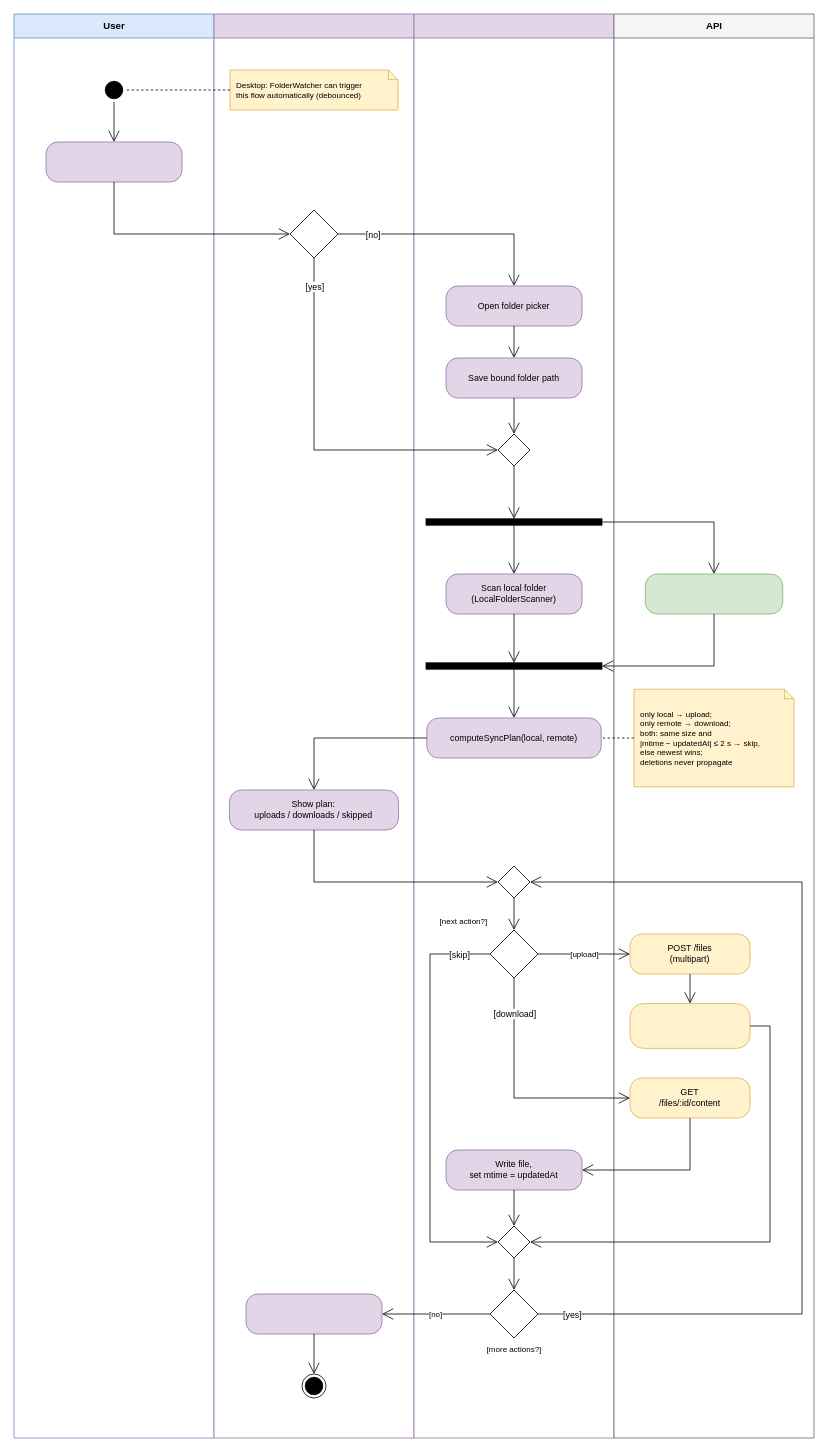
Image size: 828x1452. Some labels were removed from this diagram. The shapes that lost their labels are listed below. From the top down, each one's box as (x1, y1, x2, y2) in pixels, then its label:
(45, 141, 182, 182): Click «Synchronize»
(289, 209, 338, 258): [folder bound?]
(644, 573, 783, 614): GET /files (list remote FileDto[])
(213, 13, 414, 1438): Desktop client (Renderer)
(413, 13, 614, 1438): Desktop client (Main / SyncEngine)
(629, 1003, 750, 1048): Update FileEntry (updatedAt, modifiedBy)
(245, 1293, 382, 1334): Show SyncReport
